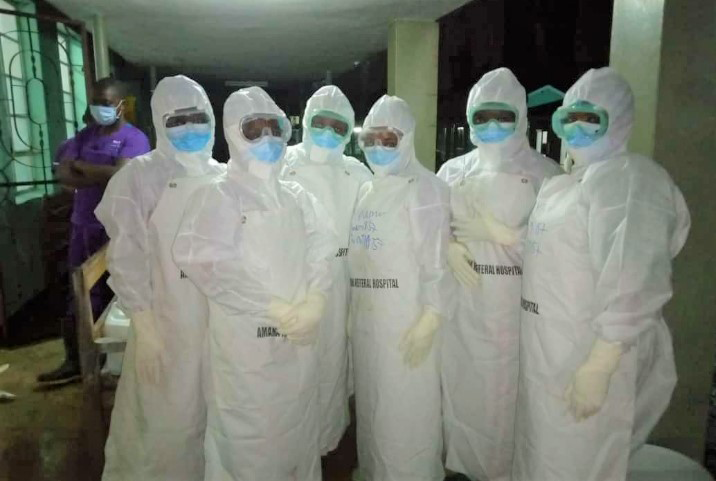Coverall: (524, 66, 675, 479), (173, 87, 327, 478), (100, 75, 214, 478), (439, 69, 531, 481), (351, 94, 448, 478), (286, 84, 369, 238)
Gloves: (564, 345, 622, 421), (450, 206, 528, 245), (130, 312, 169, 385), (401, 310, 442, 370), (272, 300, 319, 346), (446, 242, 484, 290), (279, 300, 326, 334)
Goggles: (551, 106, 609, 137), (241, 113, 292, 142), (467, 103, 521, 130), (309, 109, 351, 142), (356, 125, 403, 151), (159, 110, 216, 130)
with_mask: (474, 110, 518, 142), (246, 128, 287, 162), (168, 117, 209, 150), (564, 112, 603, 146), (364, 138, 401, 166), (311, 126, 346, 151), (87, 97, 117, 124)
